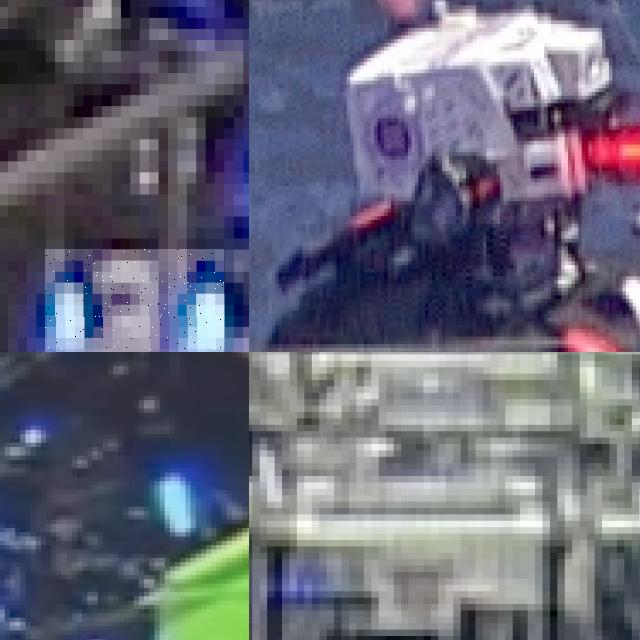B3: (45, 249, 224, 352)
R4: (551, 227, 640, 352)
